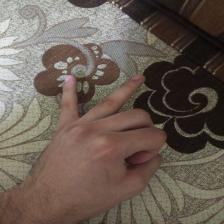five: (45, 69, 166, 220)
